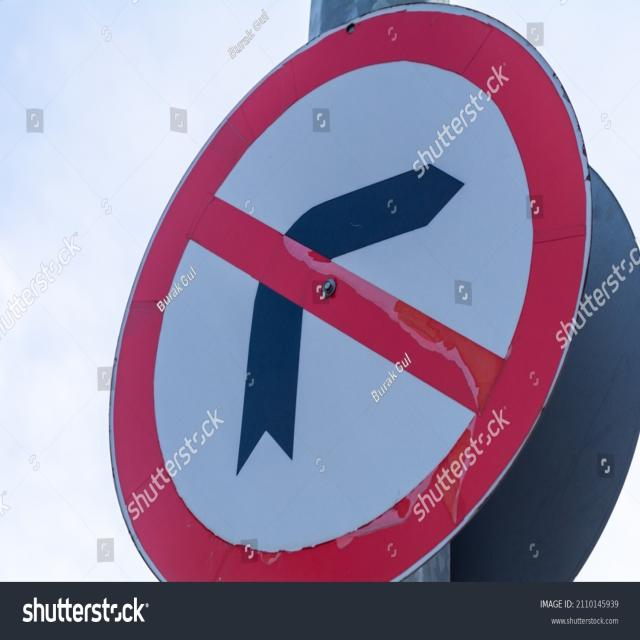RIGHT_TURN_PROHIBITED: (104, 0, 595, 586)
